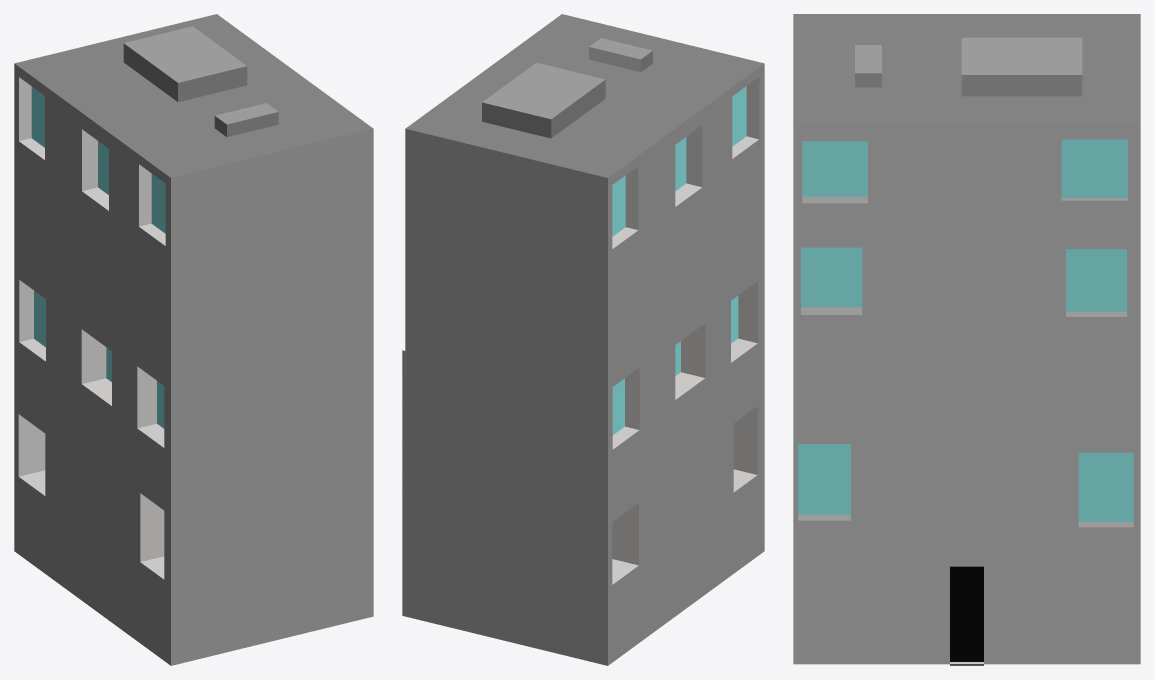
Rendered from dom1_1.fbx.
The picture shows the model from 3 angles, left to right: view 1: azimuth 30°, elevation 25°; view 2: azimuth 150°, elevation 25°; view 3: azimuth 270°, elevation 25°; orthographic projection. The views are drawn at different scales.
Visible parts, largest first — view 1: Mesh01; view 2: Mesh01; view 3: Mesh01.
Part boxes in pixels (left/top/right/bottom): Mesh01: left=14, top=14, right=373, bottom=665; Mesh01: left=402, top=14, right=764, bottom=665; Mesh01: left=793, top=14, right=1140, bottom=665.
Size of the model in its own units: 5938 by 14038 by 7842.
